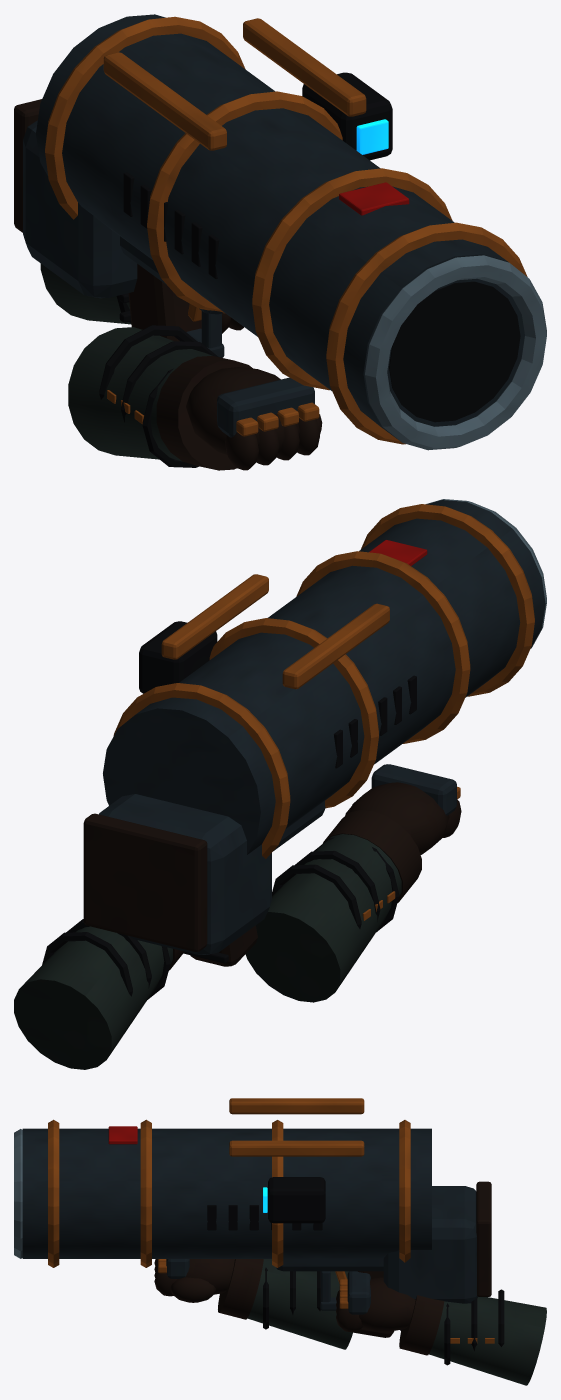
The model's file is rocket_launcher.glb.
3 views of the same model, one above another, from view 1: azimuth 30°, elevation 25°; view 2: azimuth 150°, elevation 25°; view 3: azimuth 270°, elevation 25° (orthographic). The views are drawn at different scales.
Parts seen in each view (by area): view 1: tube, weapon; view 2: tube, weapon; view 3: tube, weapon.
Boxes of the visible parts, <box> form: tube: <box>36,14,546,450</box>; weapon: <box>14,18,392,470</box>; tube: <box>103,499,546,858</box>; weapon: <box>14,574,461,1069</box>; tube: <box>14,1119,431,1267</box>; weapon: <box>154,1098,546,1385</box>.
Bounding box in the file's own units: 0.4825 × 0.6987 × 1.38.
9 materials, 9 textured.
